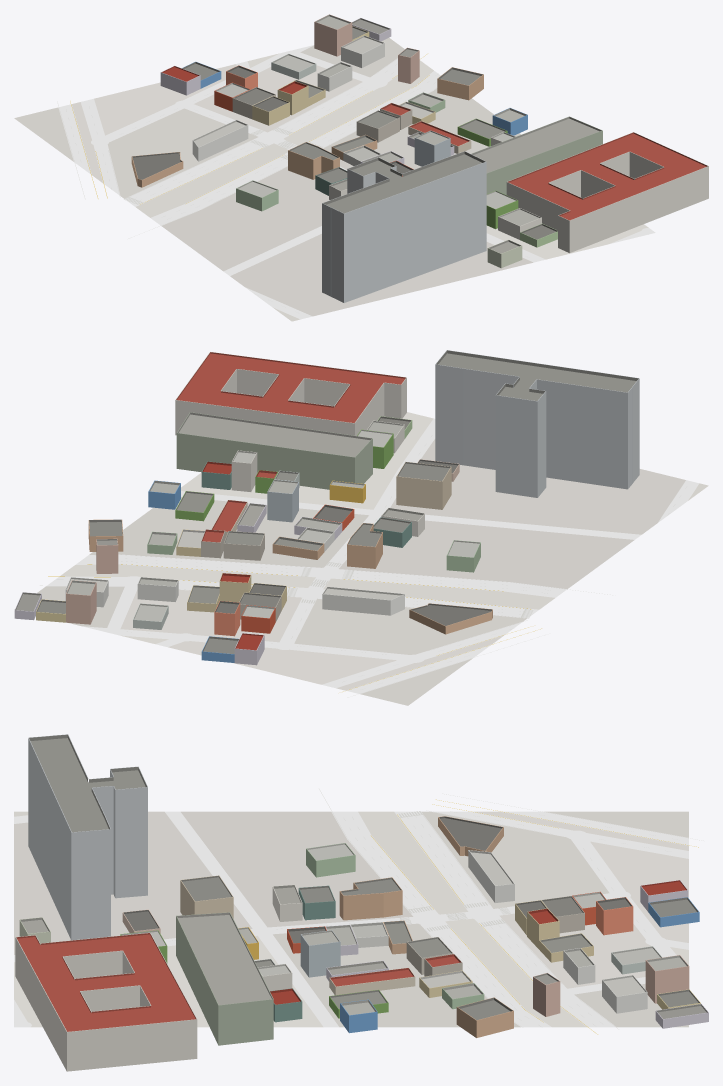
3 renders of one model, top to bottom at view 1: azimuth 30°, elevation 25°; view 2: azimuth 150°, elevation 25°; view 3: azimuth 270°, elevation 25°, orthographic. The views are drawn at different scales.
Visible parts, largest first — view 1: walls, ground, roofs, asphalt, markings; view 2: walls, ground, roofs, asphalt, markings; view 3: ground, walls, roofs, asphalt, markings.
Boxes of the visible parts, left/top/right/bottom form: walls: left=131, top=22, right=708, bottom=302; ground: left=14, top=38, right=648, bottom=321; roofs: left=132, top=14, right=708, bottom=253; asphalt: left=58, top=45, right=655, bottom=319; markings: left=57, top=54, right=438, bottom=307; walls: left=14, top=364, right=639, bottom=665; ground: left=14, top=412, right=708, bottom=705; roofs: left=15, top=350, right=639, bottom=654; asphalt: left=46, top=418, right=699, bottom=693; markings: left=40, top=435, right=686, bottom=697; ground: left=14, top=811, right=688, bottom=1027; walls: left=15, top=738, right=708, bottom=1071; roofs: left=15, top=734, right=708, bottom=1032; asphalt: left=14, top=811, right=688, bottom=1027; markings: left=172, top=789, right=703, bottom=1034.
Size of what is drawn, in the model's own units: 248 by 44.3 by 257.
